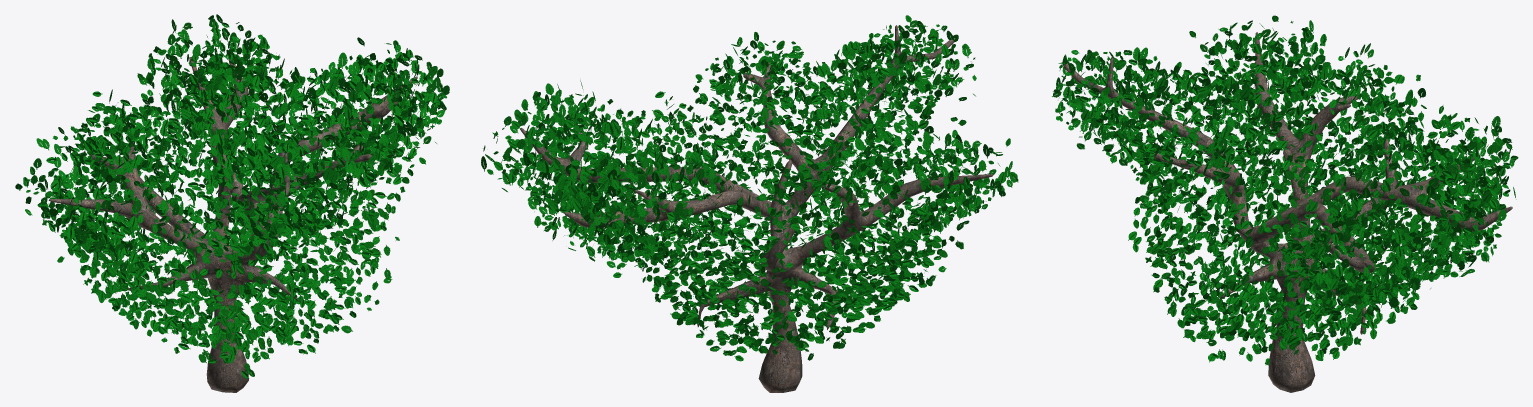
Rendered from LPTree-arbussto 1.fbx.
The picture shows the model from 3 angles, left to right: view 1: azimuth 30°, elevation 25°; view 2: azimuth 150°, elevation 25°; view 3: azimuth 270°, elevation 25°; orthographic projection. The views are drawn at different scales.
Visible parts, largest first — view 1: TreeLP-arbusto; view 2: TreeLP-arbusto; view 3: TreeLP-arbusto.
Boxes of the visible parts, x1,y1,x2,y2 form: TreeLP-arbusto: (15, 14, 449, 392); TreeLP-arbusto: (481, 15, 1018, 392); TreeLP-arbusto: (1052, 15, 1518, 392).
Bounding box in the file's own units: 75.2 × 48.82 × 66.14.
